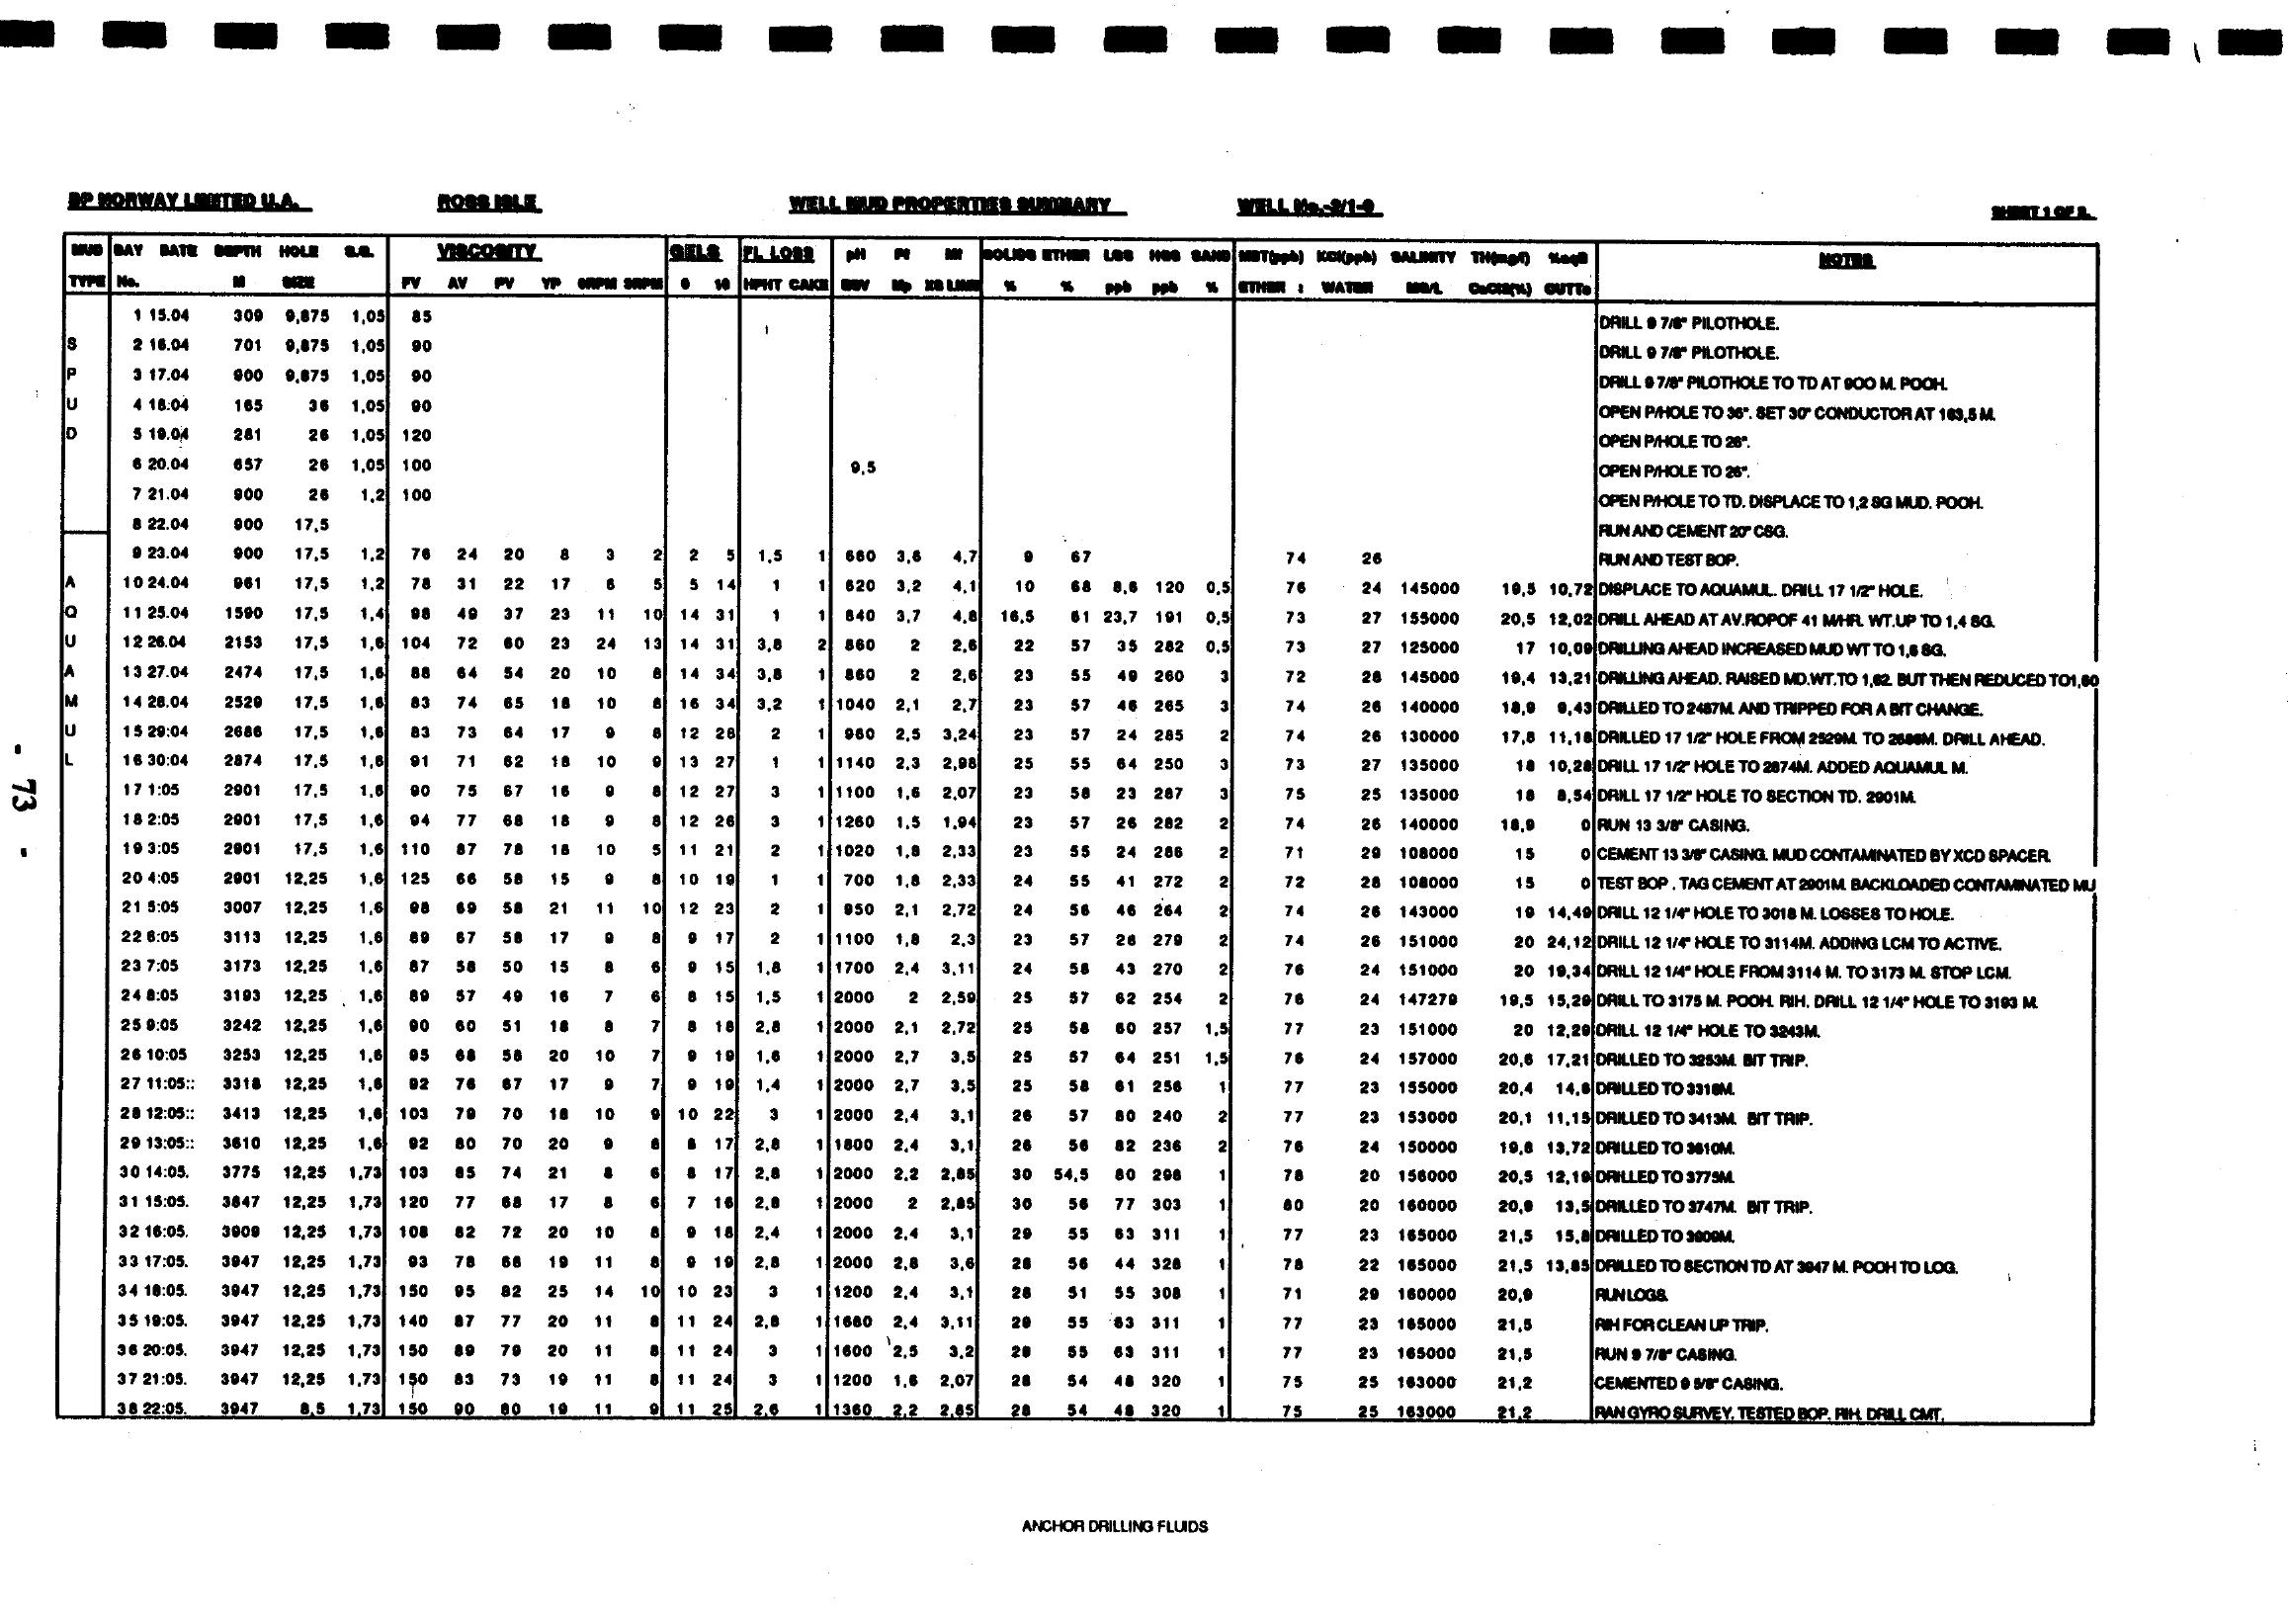table: (47, 169, 2172, 1469)
